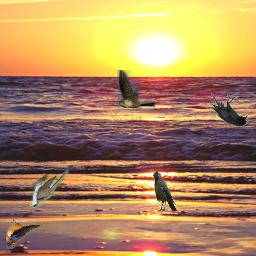Crow: (209, 93, 249, 126), (153, 171, 177, 211)
Cuckoo: (29, 169, 69, 208), (117, 70, 156, 108)
Swallow: (6, 219, 46, 249)
